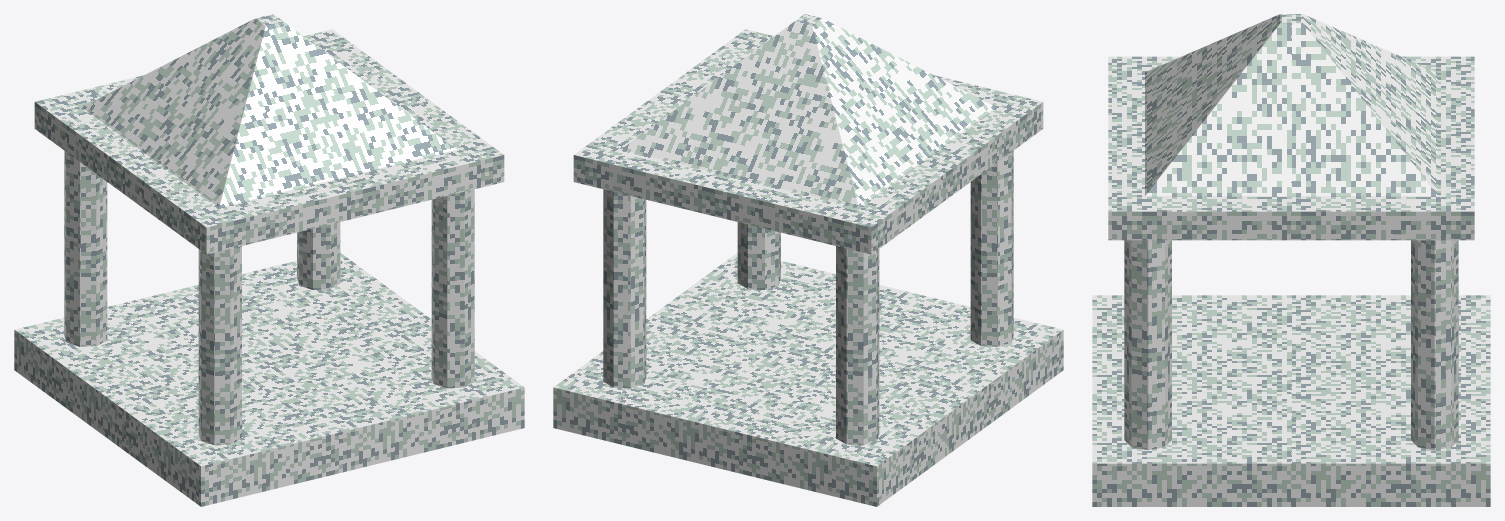
Rendered from a09_templo.glb.
3 renders of one model, left to right at view 1: azimuth 30°, elevation 25°; view 2: azimuth 150°, elevation 25°; view 3: azimuth 270°, elevation 25°, orthographic. The views are drawn at different scales.
Visible parts, largest first — view 1: a09_templo; view 2: a09_templo; view 3: a09_templo.
Part boxes in pixels (bbox=[...]): a09_templo: bbox=[14, 14, 524, 506]; a09_templo: bbox=[553, 14, 1063, 506]; a09_templo: bbox=[1092, 14, 1490, 506].
Bounding box in the file's own units: 5 × 5.6 × 5.
Materials: 1 (1 with a texture image).
